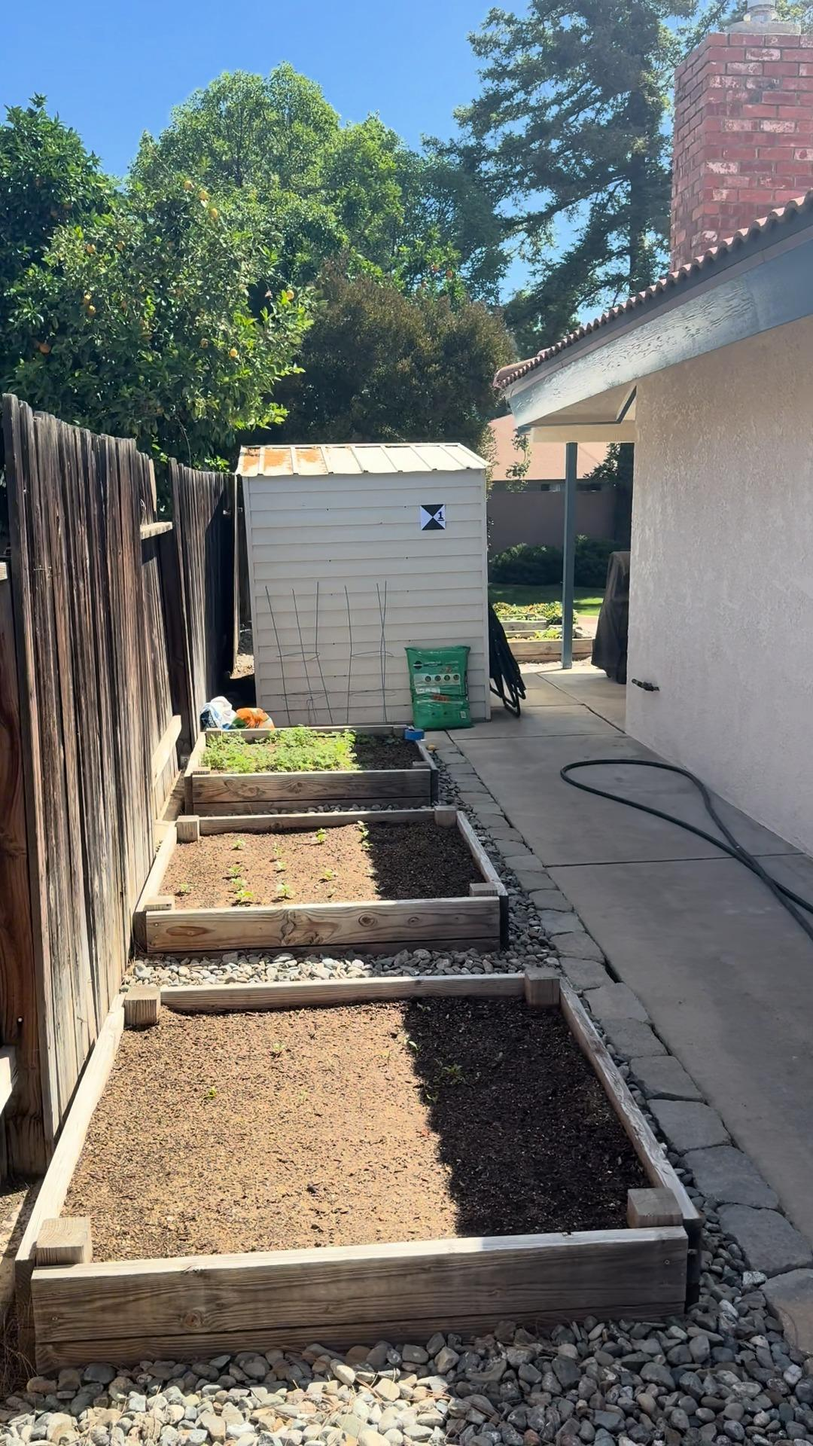target1: (418, 503, 447, 531)
